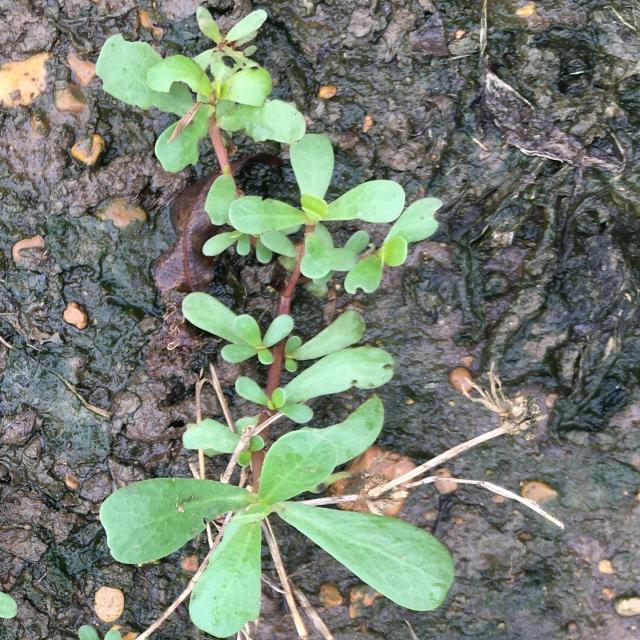Purslane: (96, 6, 455, 638)
